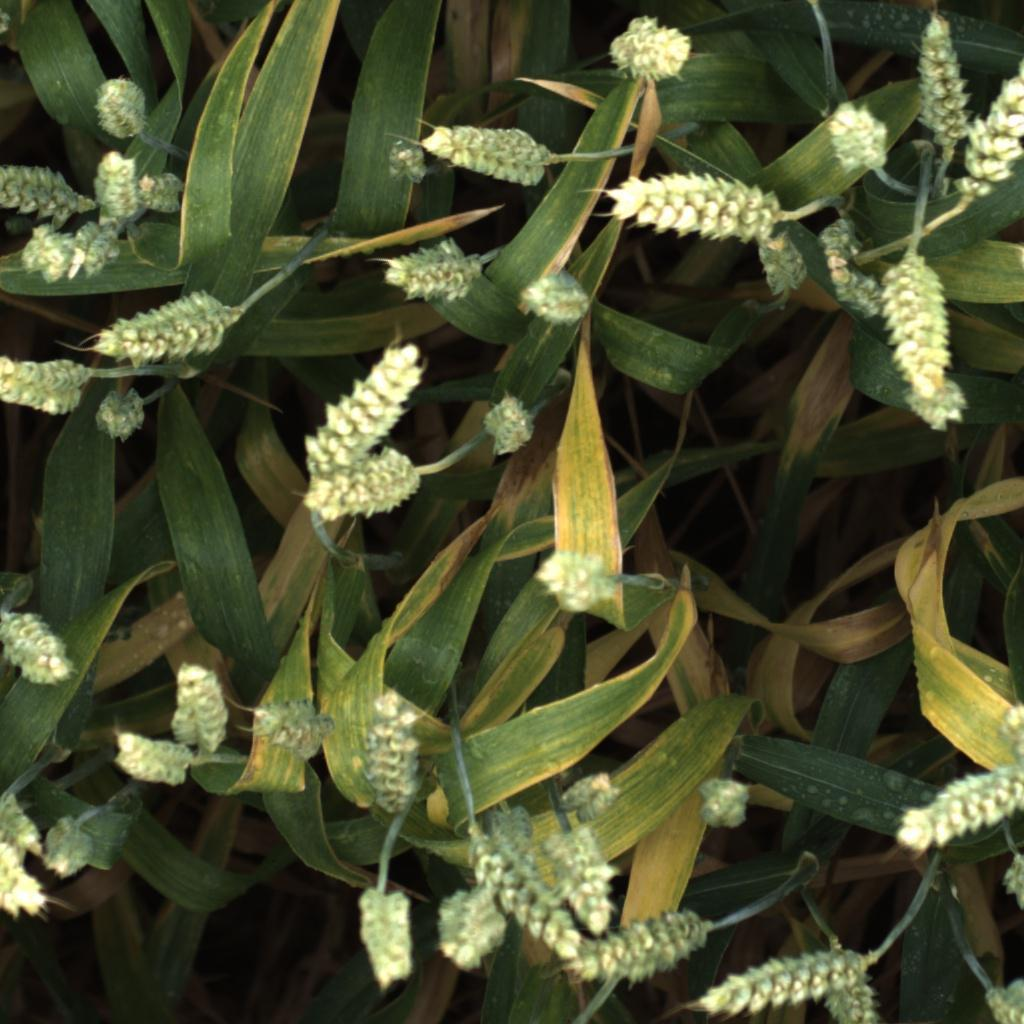0-0: (296, 341, 429, 462), (603, 164, 778, 243), (570, 901, 714, 996), (473, 842, 574, 969), (701, 941, 854, 1024), (86, 289, 234, 369), (885, 769, 1024, 852), (302, 439, 428, 524), (956, 53, 1024, 204), (885, 249, 956, 391), (414, 121, 553, 192), (915, 4, 974, 167), (353, 688, 426, 817), (559, 813, 623, 934), (0, 342, 93, 420), (378, 239, 485, 306), (605, 13, 699, 89), (155, 654, 234, 744), (530, 538, 621, 616), (0, 605, 80, 692), (430, 888, 508, 976), (0, 157, 95, 227), (241, 691, 330, 764), (820, 98, 897, 180), (359, 892, 415, 1002), (108, 732, 204, 795), (513, 266, 598, 330), (827, 946, 894, 1024), (752, 226, 814, 302), (898, 381, 980, 438), (0, 835, 53, 921), (826, 263, 893, 329), (87, 150, 143, 228), (553, 766, 622, 827), (10, 226, 80, 286), (89, 75, 151, 142), (485, 796, 538, 874), (690, 772, 757, 833), (47, 812, 101, 886), (477, 394, 537, 460), (92, 382, 151, 446), (377, 128, 436, 191), (0, 790, 47, 863), (71, 218, 122, 279), (131, 167, 186, 218), (817, 216, 863, 266), (989, 700, 1024, 764), (999, 852, 1024, 909)
